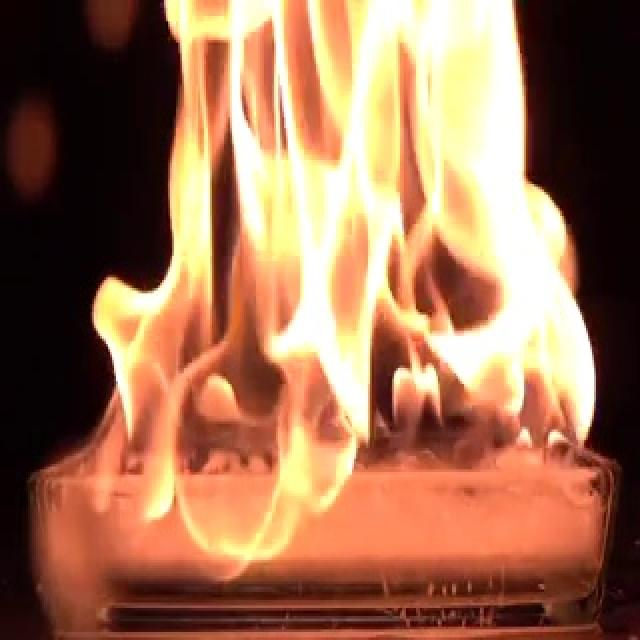fire: (86, 0, 603, 580)
